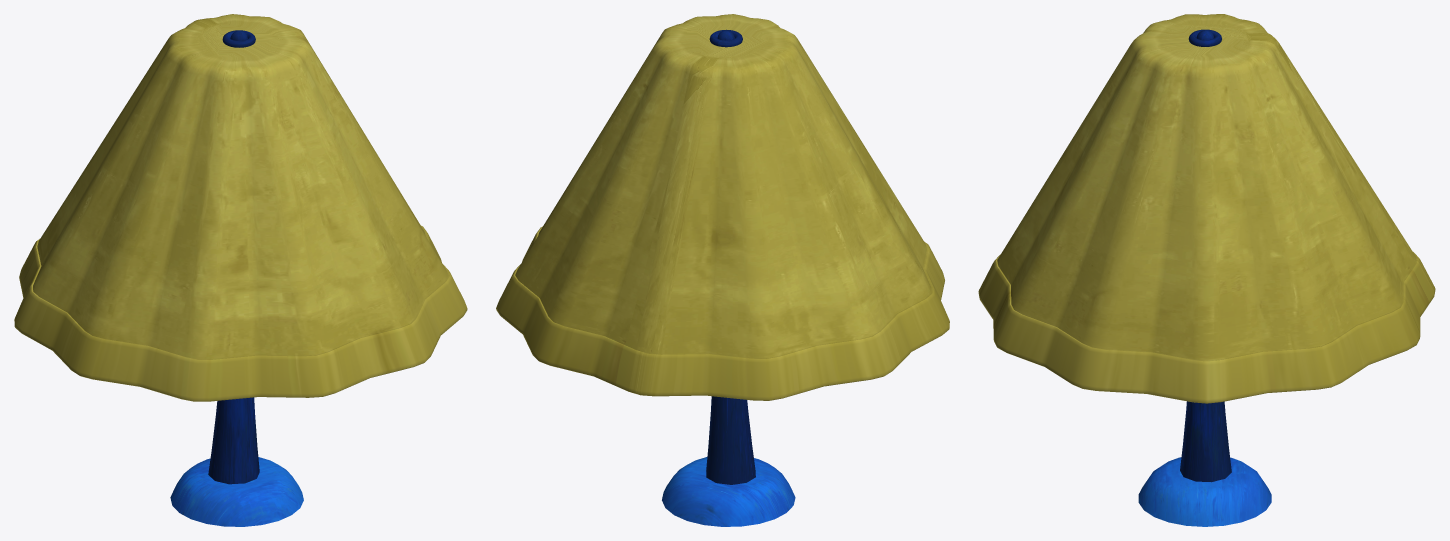
The model's file is Cartoon_Lamp.FBX.
The picture shows the model from 3 angles, left to right: view 1: azimuth 30°, elevation 25°; view 2: azimuth 150°, elevation 25°; view 3: azimuth 270°, elevation 25°; orthographic projection.
Parts seen in each view (by area): view 1: Cartoon_Lamp; view 2: Cartoon_Lamp; view 3: Cartoon_Lamp.
Part boxes in pixels (x1=…): Cartoon_Lamp: x1=14, y1=14, x2=467, y2=526; Cartoon_Lamp: x1=496, y1=14, x2=949, y2=526; Cartoon_Lamp: x1=978, y1=14, x2=1435, y2=526.
Size of the model in its own units: 37.8 by 38.1 by 43.13.
3 materials, 3 textured.
